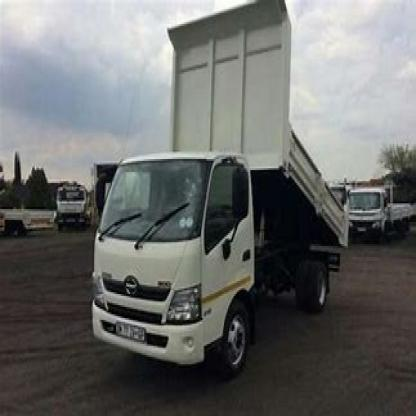dump_truck: (84, 7, 354, 376)
